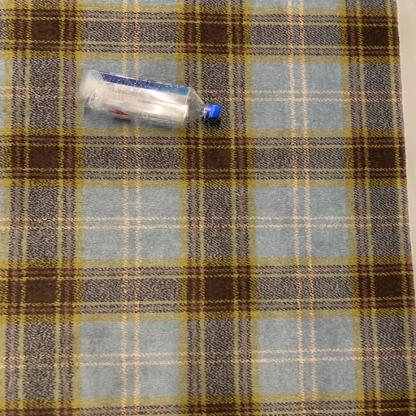trash: (78, 68, 222, 129)
